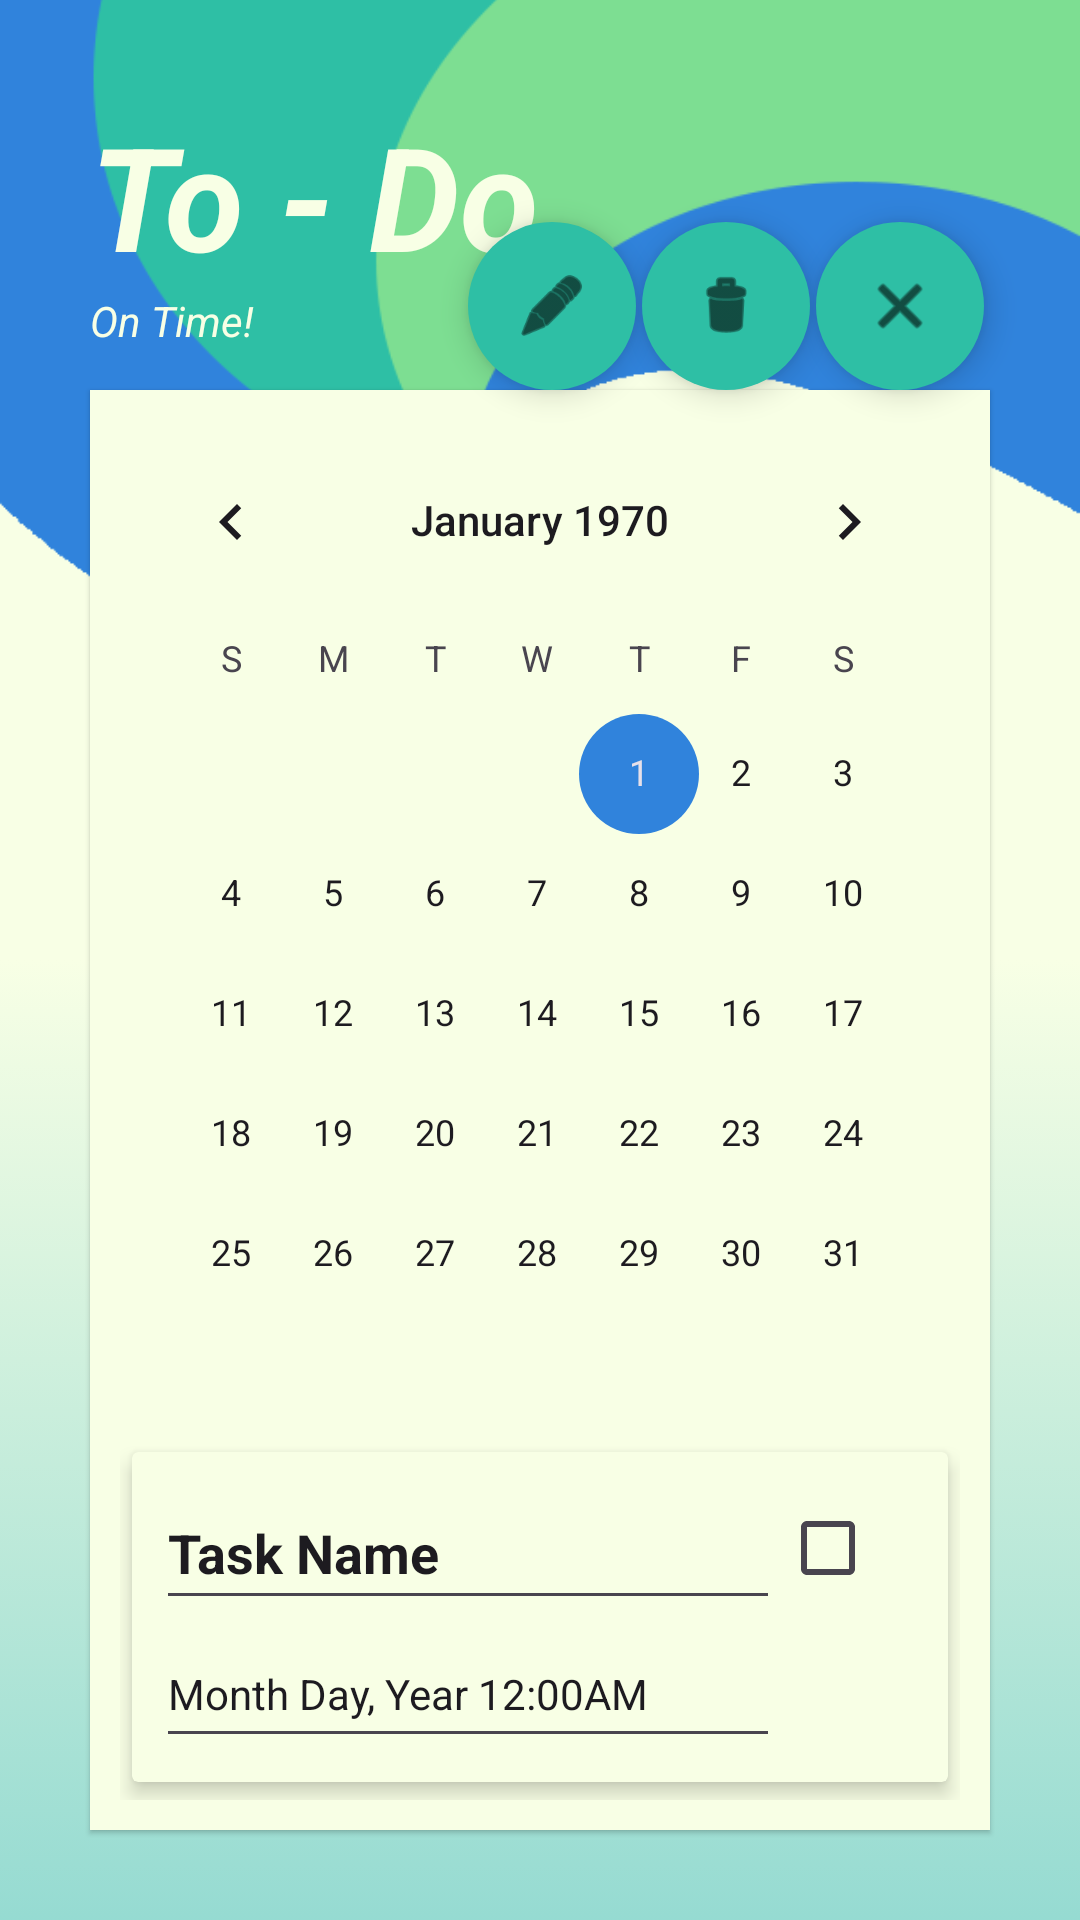

Where to tap for icons on this 1080*1920 app screen, as (x,y):
close clear cancel: (900,306)
delete: (726,306)
edit: (552,306)
